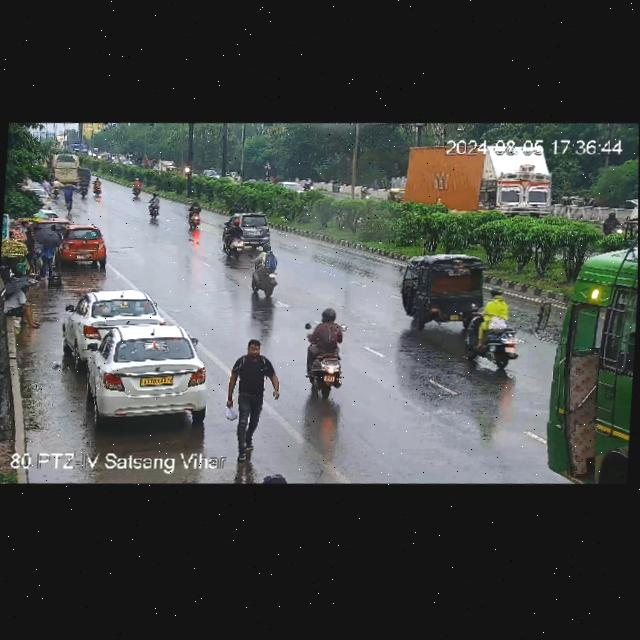bus: (543, 233, 638, 477), (49, 152, 94, 189)
car: (67, 319, 213, 428), (395, 254, 489, 331), (66, 286, 162, 352), (58, 226, 108, 264), (223, 215, 273, 251), (279, 179, 306, 196)
motorcycle: (301, 307, 352, 398), (465, 307, 520, 374), (251, 246, 288, 298), (597, 209, 624, 237), (182, 203, 205, 229), (58, 183, 79, 205), (145, 196, 164, 219), (355, 182, 372, 203), (131, 177, 147, 199), (93, 176, 108, 196)
person: (227, 335, 279, 427), (27, 223, 61, 277), (2, 284, 42, 329)
truck: (387, 141, 556, 230)
